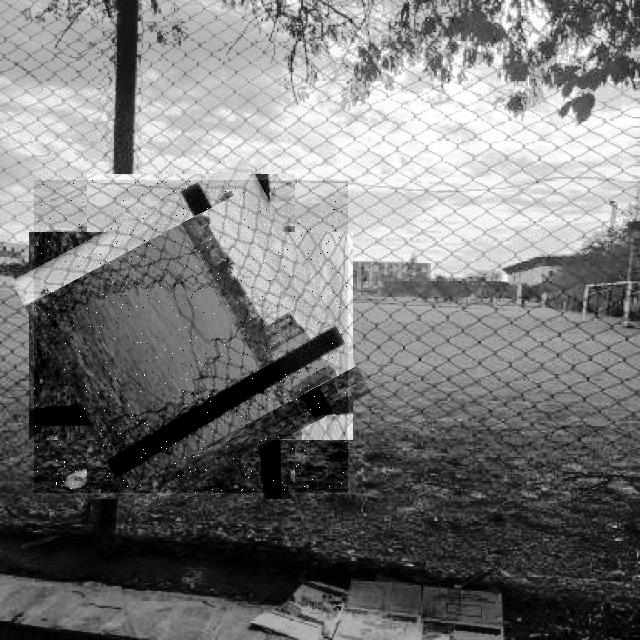anomaly-fence: (34, 180, 348, 493)
